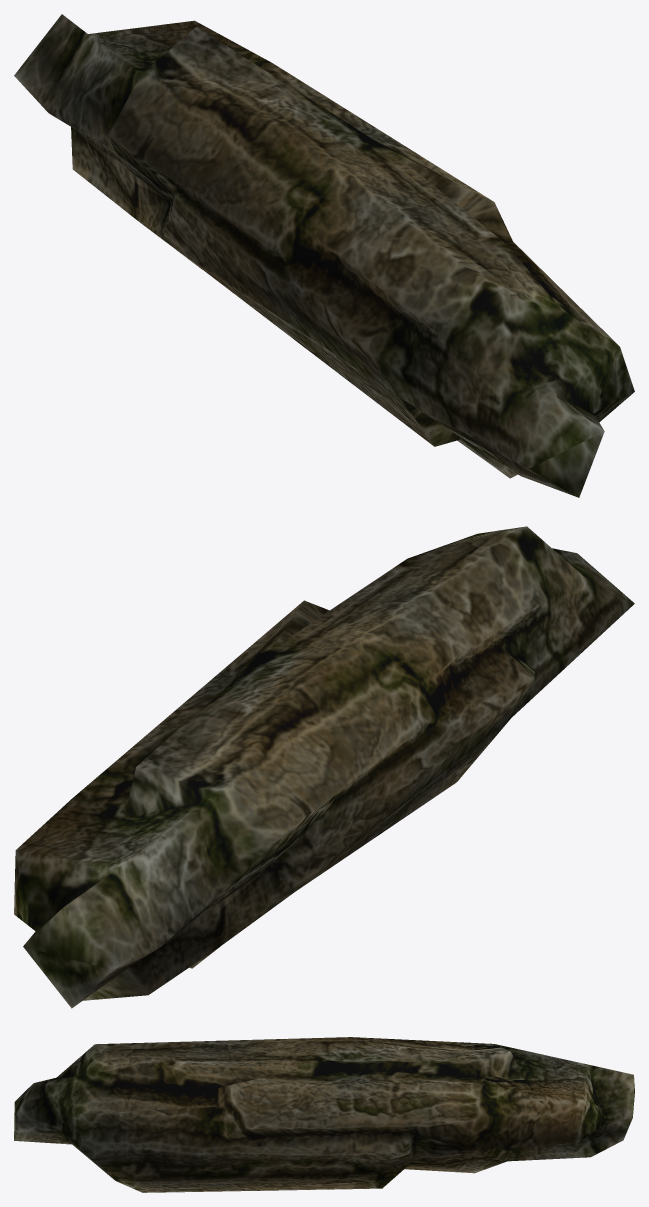
The model's file is MEP_Rock_04_LOD_01.fbx.
3 renders of one model, top to bottom at view 1: azimuth 30°, elevation 25°; view 2: azimuth 150°, elevation 25°; view 3: azimuth 270°, elevation 25°, orthographic. The views are drawn at different scales.
Parts seen in each view (by area): view 1: MEP_Rock_04_LOD_01; view 2: MEP_Rock_04_LOD_01; view 3: MEP_Rock_04_LOD_01.
Part boxes in pixels (x1=…): MEP_Rock_04_LOD_01: x1=14, y1=14, x2=634, y2=497; MEP_Rock_04_LOD_01: x1=14, y1=526, x2=634, y2=1008; MEP_Rock_04_LOD_01: x1=14, y1=1037, x2=634, y2=1192.
Size of the model in its own units: 3.55 by 3.74 by 14.88.
